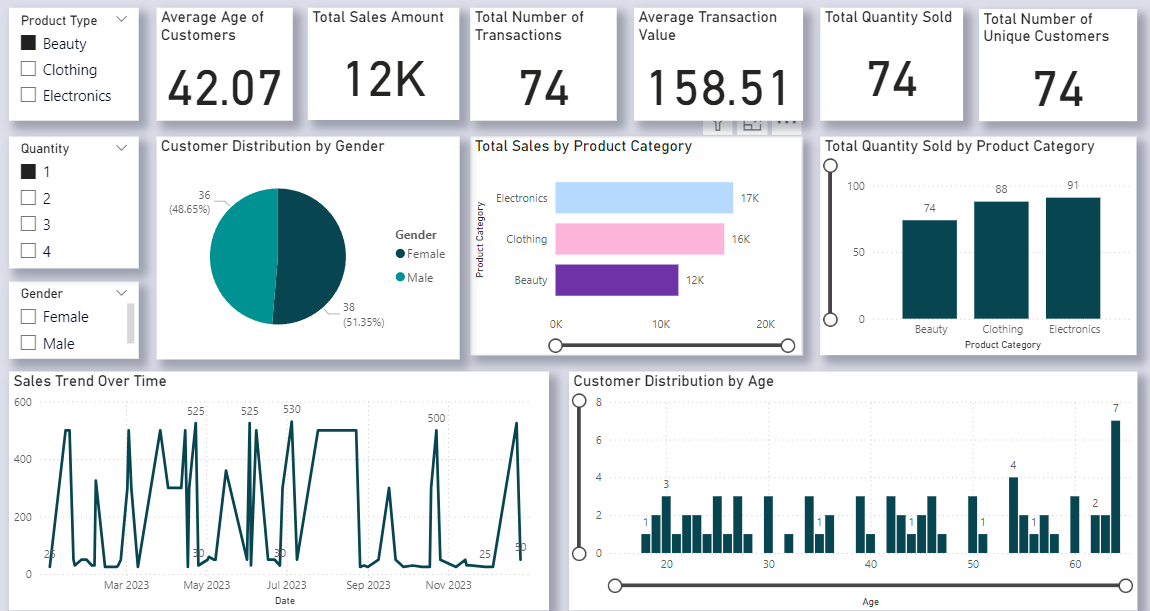

What the dashboard file says about the page in this screenshot:
{"tool":"powerbi","page":{"name":"Page 1","canvas":[1280,720],"ordinal":0},"visuals":[{"type":"barChart","title":"Total Sales by Product Category","fields":{"Y":["Sum(retail_sales_dataset.Total Amount)"],"Category":["retail_sales_dataset.Product Category"]},"box":[528.8,178.7,364,240],"z":0},{"type":"pieChart","title":"Customer Distribution by Gender","fields":{"Category":["retail_sales_dataset.Gender"],"Y":["CountNonNull(retail_sales_dataset.Customer ID)"]},"box":[183.3,178.7,333,244.6],"z":1000},{"type":"columnChart","title":"Customer Distribution by Age","fields":{"Category":["retail_sales_dataset.Age"],"Y":["CountNonNull(retail_sales_dataset.Customer ID)"]},"box":[636.3,436.5,624.4,262.4],"z":2000},{"type":"clusteredColumnChart","title":"Total Quantity Sold by Product Category","fields":{"Category":["retail_sales_dataset.Product Category","retail_sales_dataset.Total Amount"],"Y":["Sum(retail_sales_dataset.Quantity)"]},"box":[913.2,178.7,347.5,240],"z":3000},{"type":"card","title":"Total Sales Amount","fields":{"Values":["Sum(retail_sales_dataset.Total Amount)"]},"box":[350.1,37.6,166.2,123.3],"z":4000},{"type":"card","title":"Total Number of Transactions","fields":{"Values":["CountNonNull(retail_sales_dataset.Transaction ID)"]},"box":[528.8,36.9,160.9,124],"z":5000},{"type":"card","title":"Average Transaction Value","fields":{"Values":["Avg(retail_sales_dataset.Total Amount)"]},"box":[707.5,36.9,185.3,124],"z":6000},{"type":"card","title":"Total Quantity Sold","fields":{"Values":["Sum(retail_sales_dataset.Quantity)"]},"box":[913.2,37.6,156.9,124],"z":7000},{"type":"card","title":"Total Number of Unique Customers","fields":{"Values":["Count(retail_sales_dataset.Customer ID)"]},"box":[1087.3,38.2,173.4,123.3],"z":8000},{"type":"slicer","fields":{"Values":["retail_sales_dataset.Gender"]},"box":[22.4,338.2,142.4,85.1],"z":9000},{"type":"slicer","fields":{"Values":["retail_sales_dataset.Quantity"]},"box":[22.4,178.7,142.4,145.1],"z":10000},{"type":"slicer","fields":{"Values":["retail_sales_dataset.Product Category"]},"box":[22.4,37.6,142.4,124],"z":11000},{"type":"lineChart","title":"Sales Trend Over Time","fields":{"Y":["Sum(retail_sales_dataset.Total Amount)"],"Category":["retail_sales_dataset.Date"]},"box":[22.4,436.5,592.7,262.4],"z":12000},{"type":"card","title":"Average Age of Customers","fields":{"Values":["Avg(retail_sales_dataset.Age)"]},"box":[183.3,37.6,149.7,124],"z":13000}]}

Visuals, with their boxes in screenshot pixels (x1, y1, x2, y2):
"Total Sales by Product Category" barChart: box=[501, 134, 816, 342]
"Customer Distribution by Gender" pieChart: box=[201, 134, 490, 346]
"Customer Distribution by Age" columnChart: box=[594, 358, 1136, 585]
"Total Quantity Sold by Product Category" clusteredColumnChart: box=[834, 134, 1136, 342]
"Total Sales Amount" card: box=[346, 12, 490, 119]
"Total Number of Transactions" card: box=[501, 11, 640, 119]
"Average Transaction Value" card: box=[656, 11, 816, 119]
"Total Quantity Sold" card: box=[834, 12, 970, 119]
"Total Number of Unique Customers" card: box=[985, 12, 1136, 119]
slicer - retail_sales_dataset.Gender: box=[61, 272, 185, 346]
slicer - retail_sales_dataset.Quantity: box=[61, 134, 185, 260]
slicer - retail_sales_dataset.Product Category: box=[61, 12, 185, 119]
"Sales Trend Over Time" lineChart: box=[61, 358, 576, 585]
"Average Age of Customers" card: box=[201, 12, 331, 119]
